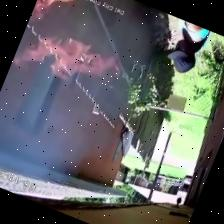person: (168, 19, 210, 71)
